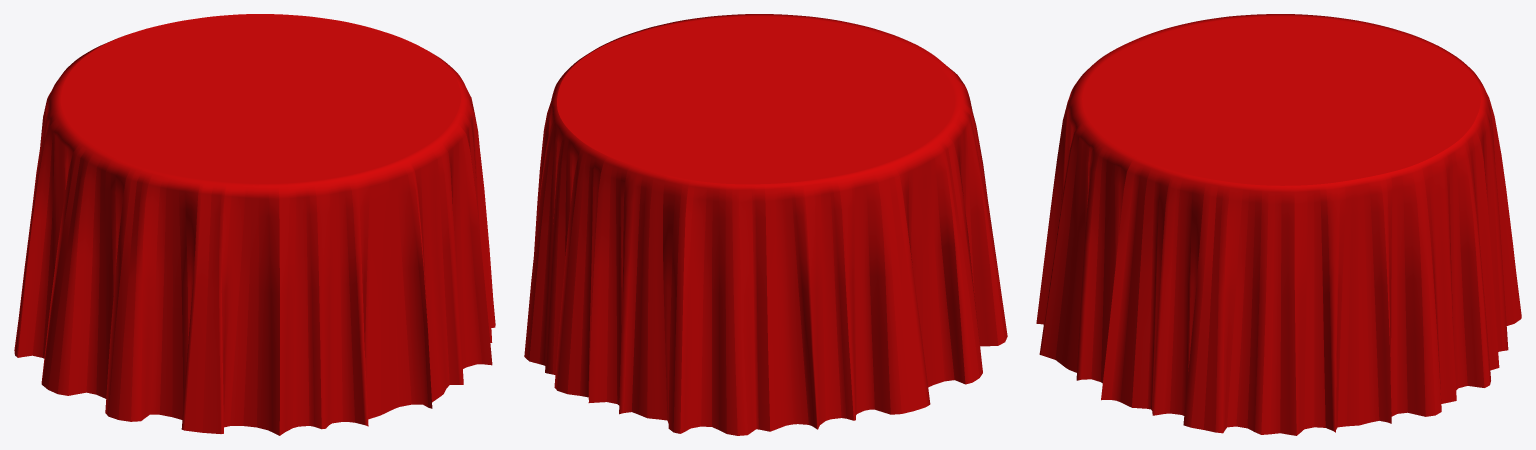
The model's file is Tablecloth.fbx.
3 renders of one model, left to right at view 1: azimuth 30°, elevation 25°; view 2: azimuth 150°, elevation 25°; view 3: azimuth 270°, elevation 25°, orthographic.
Parts seen in each view (by area): view 1: Cylinder003; view 2: Cylinder003; view 3: Cylinder003.
Part boxes in pixels (x1,y1,x2,y2): Cylinder003: [14, 14, 495, 435]; Cylinder003: [524, 14, 1007, 435]; Cylinder003: [1036, 14, 1521, 435].
Bounding box in the file's own units: 232 × 128 × 235.
